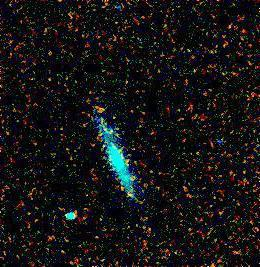star: (85, 90, 115, 120)
